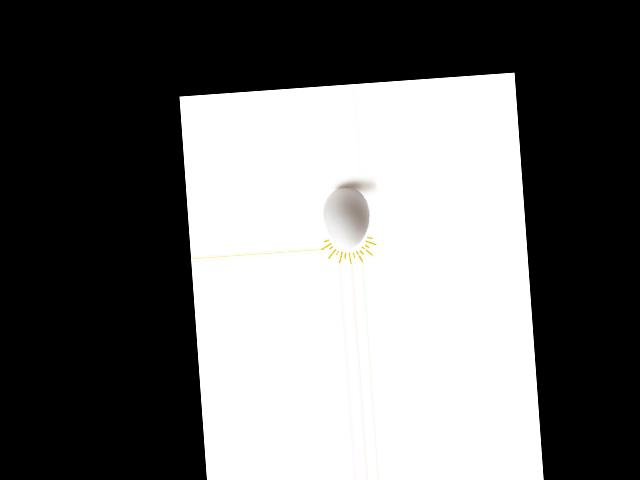egg: (320, 186, 371, 249)
